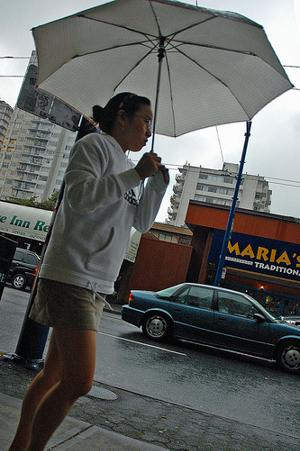person: (8, 92, 171, 450)
